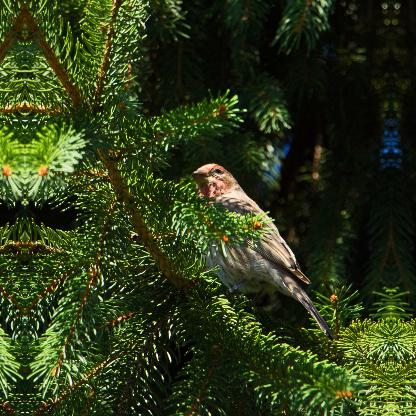Bird: (190, 155, 334, 341)
